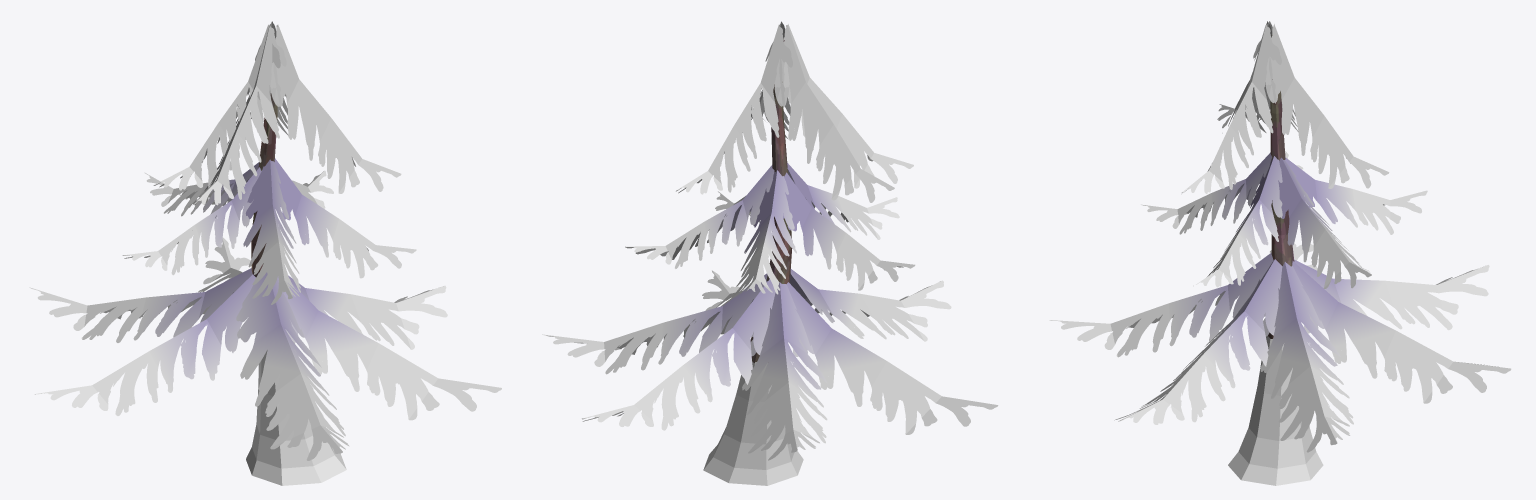
File: tree_03_garden.fbx
3 views of the same model, side by side, from view 1: azimuth 30°, elevation 25°; view 2: azimuth 150°, elevation 25°; view 3: azimuth 270°, elevation 25° (orthographic). The views are drawn at different scales.
Parts seen in each view (by area): view 1: Plane.006, Plane.021, Plane.022, Cube.008, Cube.007; view 2: Plane.006, Plane.021, Plane.022, Cube.008, Cube.007; view 3: Plane.006, Plane.021, Plane.022, Cube.008, Cube.007.
Boxes of the visible parts, left/top/right/bottom form: Plane.006: left=29, top=237, right=501, bottom=460; Plane.021: left=122, top=158, right=416, bottom=304; Plane.022: left=153, top=21, right=401, bottom=206; Cube.008: left=246, top=342, right=346, bottom=485; Cube.007: left=251, top=93, right=277, bottom=277; Plane.006: left=542, top=269, right=998, bottom=460; Plane.021: left=625, top=163, right=915, bottom=298; Plane.022: left=676, top=21, right=913, bottom=202; Cube.008: left=703, top=362, right=803, bottom=485; Cube.007: left=750, top=38, right=792, bottom=362; Plane.006: left=1049, top=243, right=1511, bottom=452; Plane.021: left=1141, top=151, right=1427, bottom=288; Plane.022: left=1182, top=21, right=1389, bottom=193; Cube.008: left=1228, top=336, right=1323, bottom=485; Cube.007: left=1268, top=34, right=1294, bottom=338.
Size of the model in its own units: 992 by 977 by 967.
